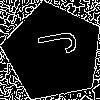J: (28, 27, 78, 61)
